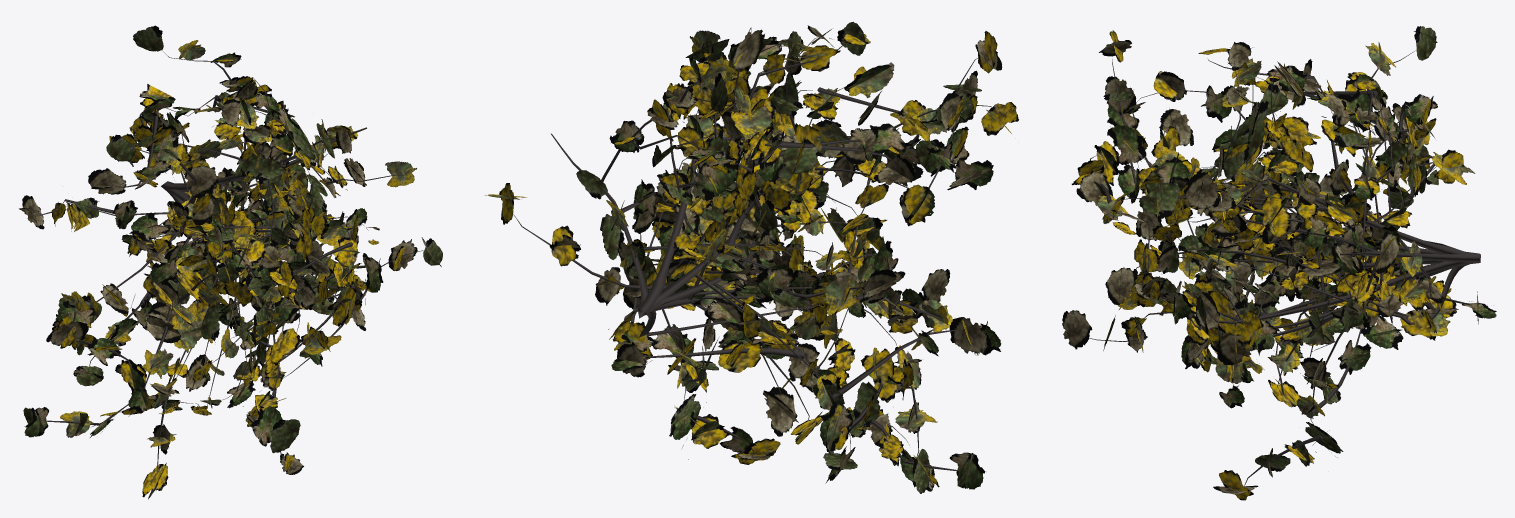
File: gorse-yellow.gltf
3 views of the same model, side by side, from view 1: azimuth 30°, elevation 25°; view 2: azimuth 150°, elevation 25°; view 3: azimuth 270°, elevation 25° (orthographic). The views are drawn at different scales.
Visible parts, largest first — view 1: gorse-yellow; view 2: gorse-yellow; view 3: gorse-yellow.
Part boxes in pixels (bbox=[...]): gorse-yellow: bbox=[19, 25, 442, 499]; gorse-yellow: bbox=[485, 21, 1018, 493]; gorse-yellow: bbox=[1062, 26, 1496, 500].
Bounding box in the file's own units: 2.63 × 2.73 × 2.38.
1 material, 1 textured.
